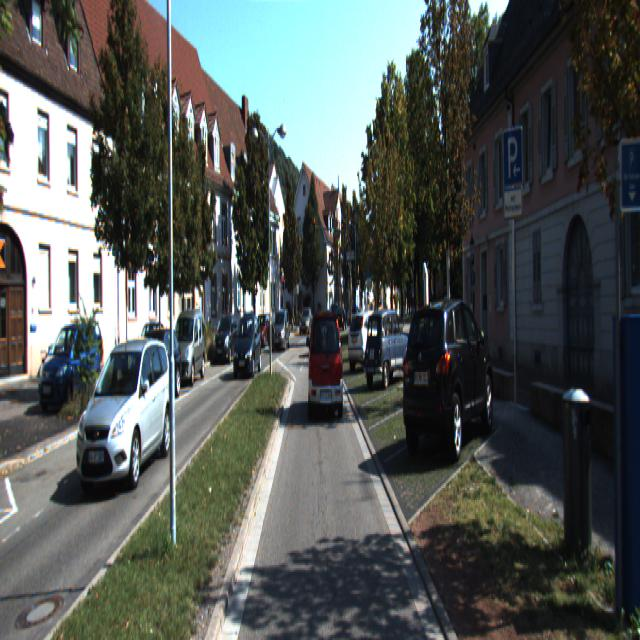Car: (75, 329, 175, 495), (399, 294, 496, 462), (37, 320, 100, 409), (125, 327, 183, 414), (364, 305, 414, 391), (309, 310, 344, 422), (45, 316, 105, 377), (169, 309, 206, 389), (347, 310, 390, 369), (233, 312, 263, 379), (212, 314, 240, 364), (251, 314, 275, 350), (272, 310, 290, 352), (334, 305, 348, 333), (300, 308, 314, 335)
